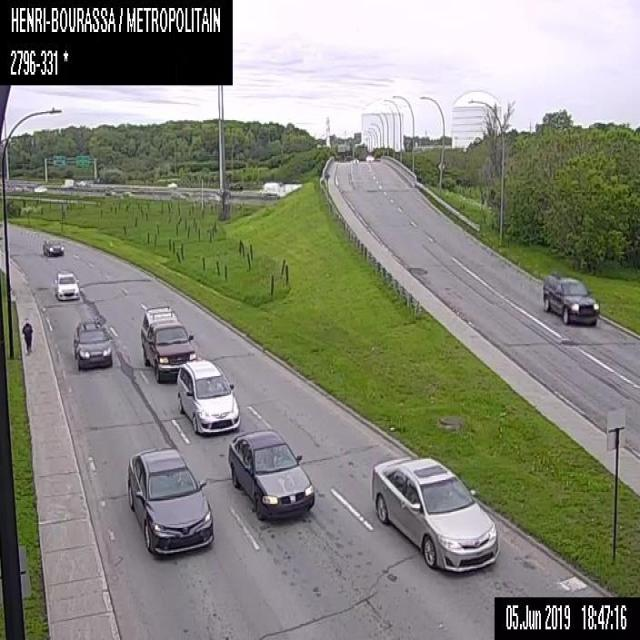pedestrian: (22, 321, 32, 352)
vehicle: (372, 455, 499, 573), (124, 444, 213, 556), (227, 427, 314, 522), (176, 353, 239, 435), (140, 306, 196, 382), (541, 272, 599, 324), (73, 318, 112, 370), (55, 271, 79, 301), (42, 236, 64, 255), (277, 182, 301, 196), (261, 181, 282, 194), (60, 177, 73, 187), (32, 183, 46, 191), (166, 181, 178, 189), (104, 189, 115, 194), (352, 157, 358, 162)
